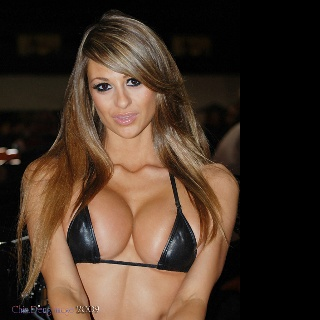without_mask: (87, 58, 155, 139)
